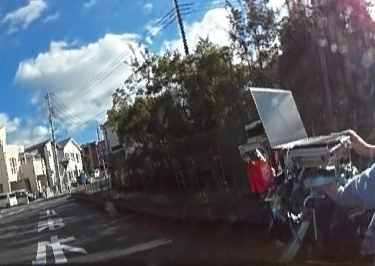person: (320, 0, 375, 257)
